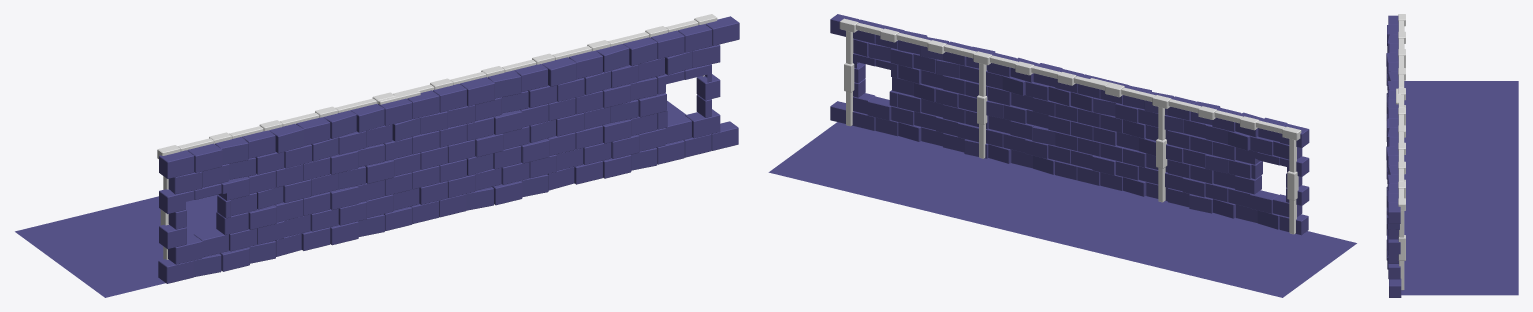
File: Room.FBX
3 views of the same model, side by side, from view 1: azimuth 30°, elevation 25°; view 2: azimuth 150°, elevation 25°; view 3: azimuth 270°, elevation 25° (orthographic). The views are drawn at different scales.
Parts seen in each view (by area): view 1: Box039, Object201, Object200, Object060, Object197, Object063, Object056, Object193, Object138, Object147, Object136, Object057 (+111 smaller); view 2: Box001, Box039, Object012, Object155, Object163, Object147; view 3: Box039, Box001, Object138, Object137, Object131, Object133, Box036, Object197, Object060, Box034, Box035, Object063 (+15 smaller).
Part boxes in pixels (x1,y1,x2,y2): Box039: [15, 194, 218, 297]; Object201: [159, 150, 194, 178]; Object200: [187, 143, 222, 172]; Object060: [542, 57, 576, 86]; Object197: [269, 124, 303, 153]; Object063: [460, 77, 494, 106]; Object056: [623, 37, 657, 66]; Object193: [350, 104, 384, 132]; Object138: [705, 16, 739, 45]; Object147: [158, 259, 193, 283]; Object136: [678, 24, 711, 52]; Object057: [650, 30, 684, 59]; Box001: [768, 122, 1096, 235]; Box039: [1029, 185, 1356, 297]; Object012: [867, 96, 891, 120]; Object155: [1250, 190, 1278, 213]; Object163: [1235, 175, 1261, 194]; Object147: [1279, 214, 1308, 235]; Box039: [1404, 81, 1518, 189]; Box001: [1401, 189, 1518, 295]; Object138: [1388, 202, 1400, 223]; Object137: [1389, 279, 1401, 297]; Object131: [1388, 264, 1400, 279]; Object133: [1388, 239, 1400, 254]; Box036: [1398, 235, 1405, 260]; Object197: [1386, 52, 1398, 73]; Object060: [1386, 146, 1398, 167]; Box034: [1399, 261, 1404, 290]; Box035: [1399, 211, 1404, 237]; Object063: [1387, 118, 1398, 138].
Size of the model in its own units: 3724 by 708 by 960.
